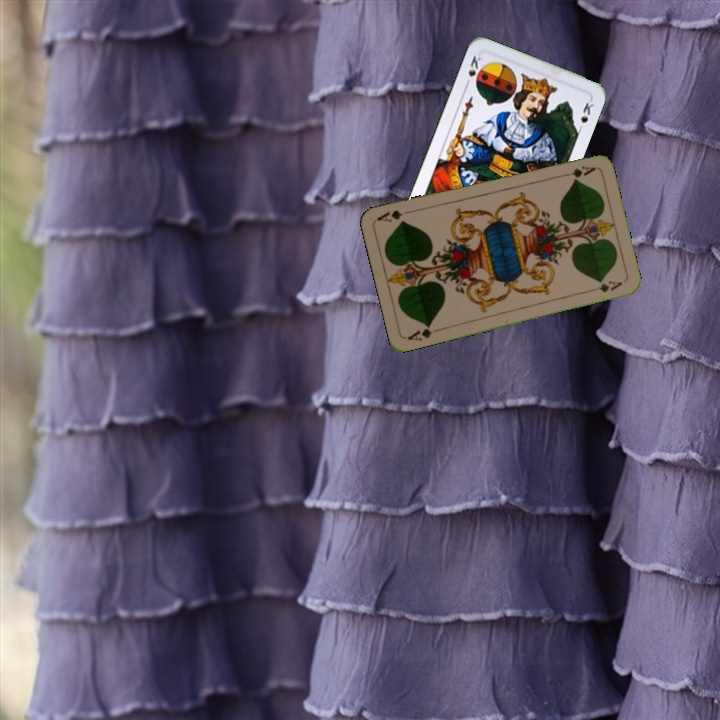GA: (403, 321, 443, 343), (557, 162, 598, 180)
SK: (461, 51, 485, 90)
